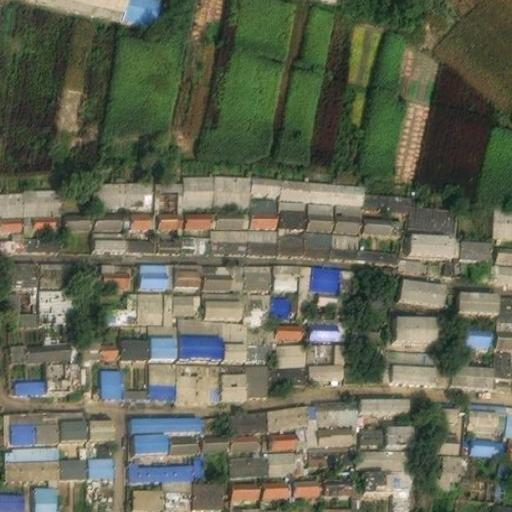building: (385, 346, 450, 379), (4, 406, 61, 439), (178, 315, 222, 356), (5, 441, 60, 472), (177, 358, 221, 393), (412, 192, 457, 225), (221, 359, 266, 391), (434, 400, 463, 449), (214, 169, 250, 207), (400, 271, 448, 298), (43, 356, 80, 389), (135, 286, 172, 319), (8, 285, 40, 323), (311, 336, 346, 370), (147, 319, 178, 356), (40, 281, 70, 318), (411, 224, 457, 248), (397, 308, 439, 334), (462, 399, 504, 425), (249, 171, 279, 207), (307, 395, 356, 417), (103, 286, 136, 318), (147, 358, 177, 393), (456, 285, 499, 309), (300, 260, 339, 286), (182, 169, 214, 199), (222, 318, 247, 356), (202, 260, 245, 282), (59, 441, 90, 471), (193, 474, 225, 503), (80, 333, 122, 355), (333, 196, 363, 226), (25, 183, 57, 211), (93, 177, 125, 205), (365, 187, 412, 206), (309, 444, 355, 463), (164, 453, 202, 476), (359, 445, 407, 463), (449, 360, 492, 380), (164, 475, 193, 504), (125, 177, 155, 205), (228, 406, 268, 427), (212, 223, 248, 246), (40, 256, 73, 281), (267, 402, 308, 422), (365, 466, 408, 485), (207, 287, 242, 310), (33, 480, 58, 512), (8, 257, 41, 281), (44, 329, 72, 357), (60, 405, 88, 433), (278, 196, 307, 223), (241, 287, 270, 314), (462, 432, 505, 450), (267, 446, 302, 468), (247, 318, 267, 356), (140, 260, 169, 286), (275, 338, 306, 362), (99, 259, 130, 283), (133, 481, 164, 505), (306, 317, 345, 336), (229, 450, 268, 469), (123, 0, 158, 21), (307, 196, 334, 223), (278, 222, 307, 247), (130, 456, 164, 477), (247, 224, 278, 247), (272, 260, 300, 285), (92, 204, 125, 225), (135, 426, 168, 447), (318, 421, 354, 440), (384, 419, 415, 441), (306, 223, 333, 248), (363, 393, 411, 407), (333, 226, 362, 249), (212, 206, 249, 224), (440, 448, 467, 472), (461, 233, 491, 254), (467, 321, 498, 341), (494, 199, 512, 233), (92, 225, 124, 244), (307, 176, 337, 196), (101, 363, 121, 393), (11, 338, 44, 356), (245, 260, 272, 282), (88, 411, 115, 433), (494, 345, 512, 378), (278, 176, 307, 196), (24, 231, 60, 247), (167, 410, 203, 426), (122, 334, 148, 356), (176, 257, 203, 278), (337, 177, 365, 197), (0, 224, 24, 247), (362, 209, 391, 228), (124, 205, 154, 223), (231, 476, 259, 495), (134, 411, 167, 427), (90, 450, 115, 471), (323, 469, 352, 487), (172, 291, 200, 309), (262, 475, 290, 493), (275, 317, 306, 333), (228, 426, 259, 442), (339, 261, 358, 287), (249, 207, 278, 224), (325, 497, 360, 511), (270, 292, 297, 310), (182, 230, 212, 246), (184, 206, 212, 223), (362, 242, 396, 256), (167, 431, 198, 446), (498, 289, 512, 322), (0, 486, 23, 506), (63, 207, 90, 224), (294, 473, 324, 488), (202, 427, 229, 443), (360, 420, 384, 438), (10, 375, 43, 388), (124, 233, 158, 245), (158, 229, 183, 245), (271, 427, 297, 442), (317, 286, 339, 303), (157, 205, 180, 220), (34, 211, 56, 223), (121, 383, 147, 393), (497, 241, 512, 258), (497, 322, 512, 339), (493, 499, 512, 512), (503, 403, 512, 430), (504, 436, 512, 453)
